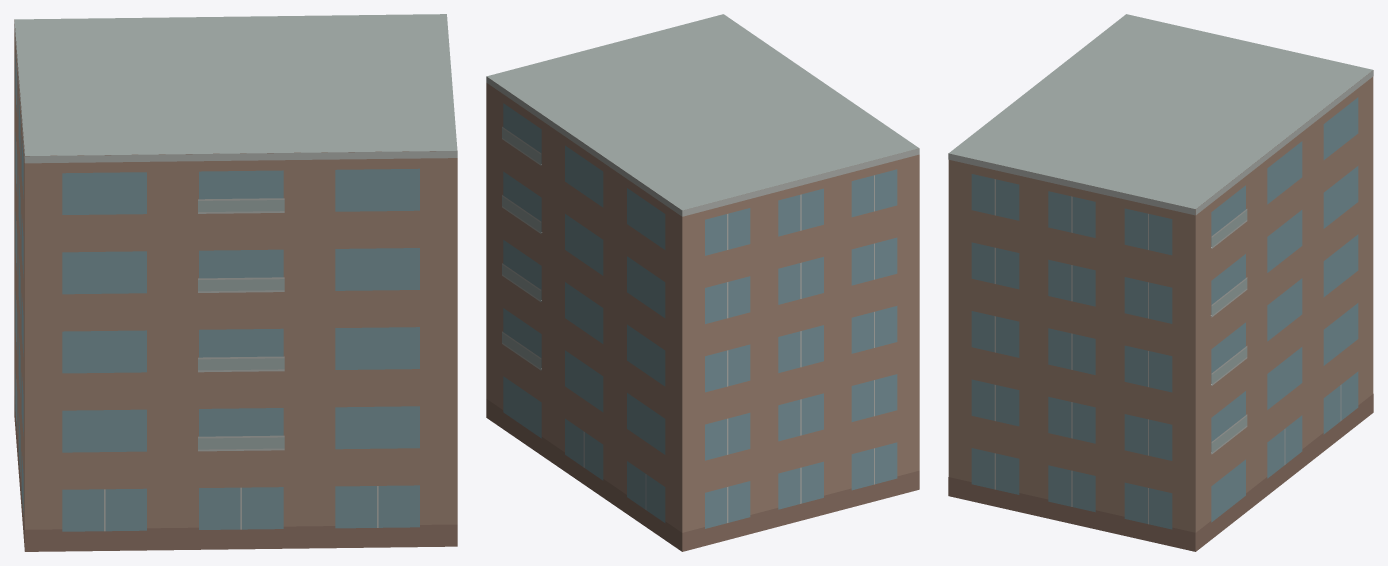
The model's file is survey-upis-32879951.glb.
The picture shows the model from 3 angles, left to right: view 1: azimuth 30°, elevation 25°; view 2: azimuth 150°, elevation 25°; view 3: azimuth 270°, elevation 25°; orthographic projection. The views are drawn at different scales.
Parts seen in each view (by area): view 1: survey-upis-32879951.tmp; view 2: survey-upis-32879951.tmp; view 3: survey-upis-32879951.tmp.
Part boxes in pixels (x1=…): survey-upis-32879951.tmp: x1=14, y1=14, x2=457, y2=551; survey-upis-32879951.tmp: x1=486, y1=14, x2=919, y2=551; survey-upis-32879951.tmp: x1=948, y1=14, x2=1373, y2=551.
Size of the model in its own units: 16.26 by 13.3 by 14.96.
